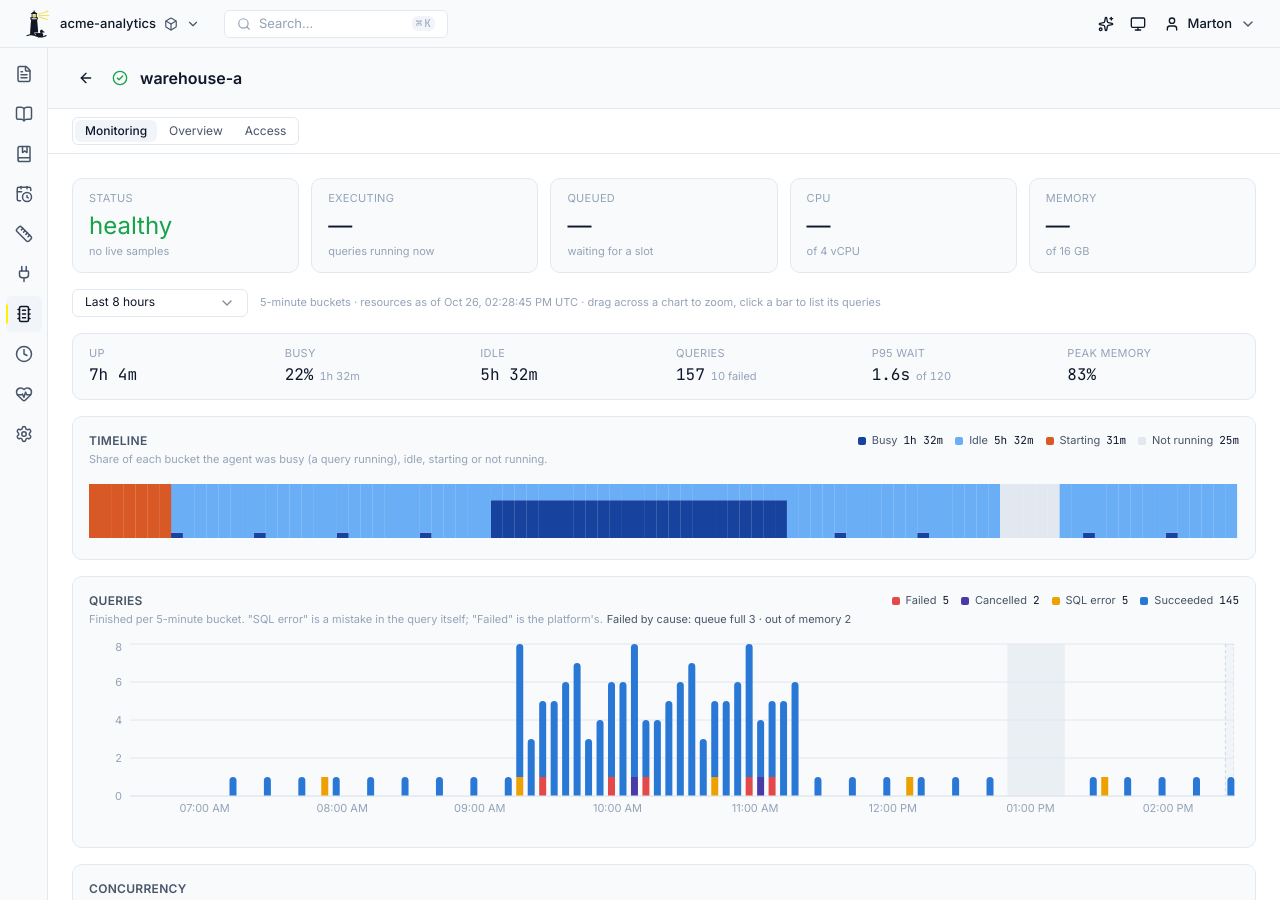
AgentAccessTab › granting › never offers the admin tier for a workspace grantee
Click the tab "Access" at (266, 131), box [235, 120, 296, 142]
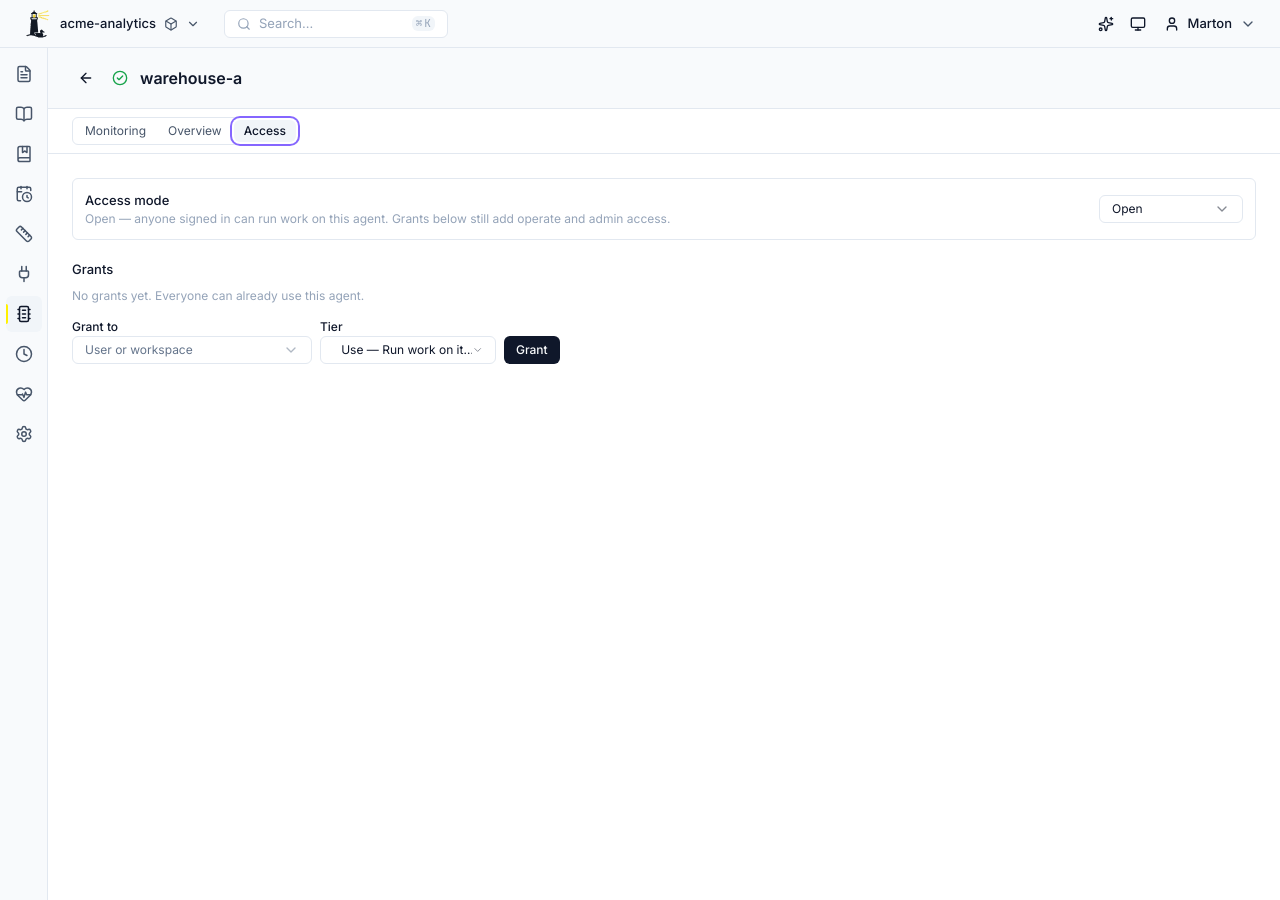
Click the dropdown named "grant to" at (192, 350), box [72, 336, 312, 364]
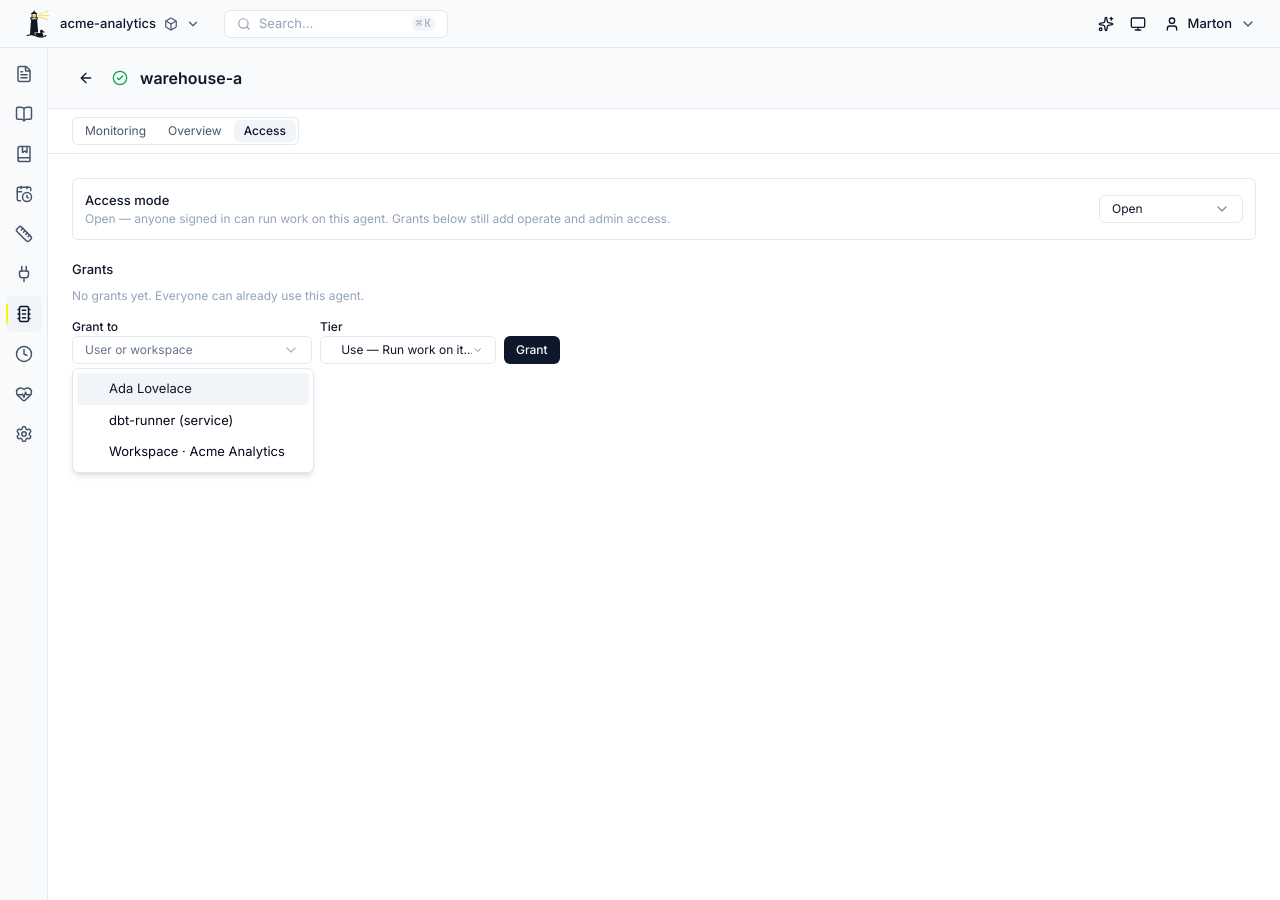
Click the option "Workspace · Acme Analytics" at (197, 451), box [109, 443, 285, 459]
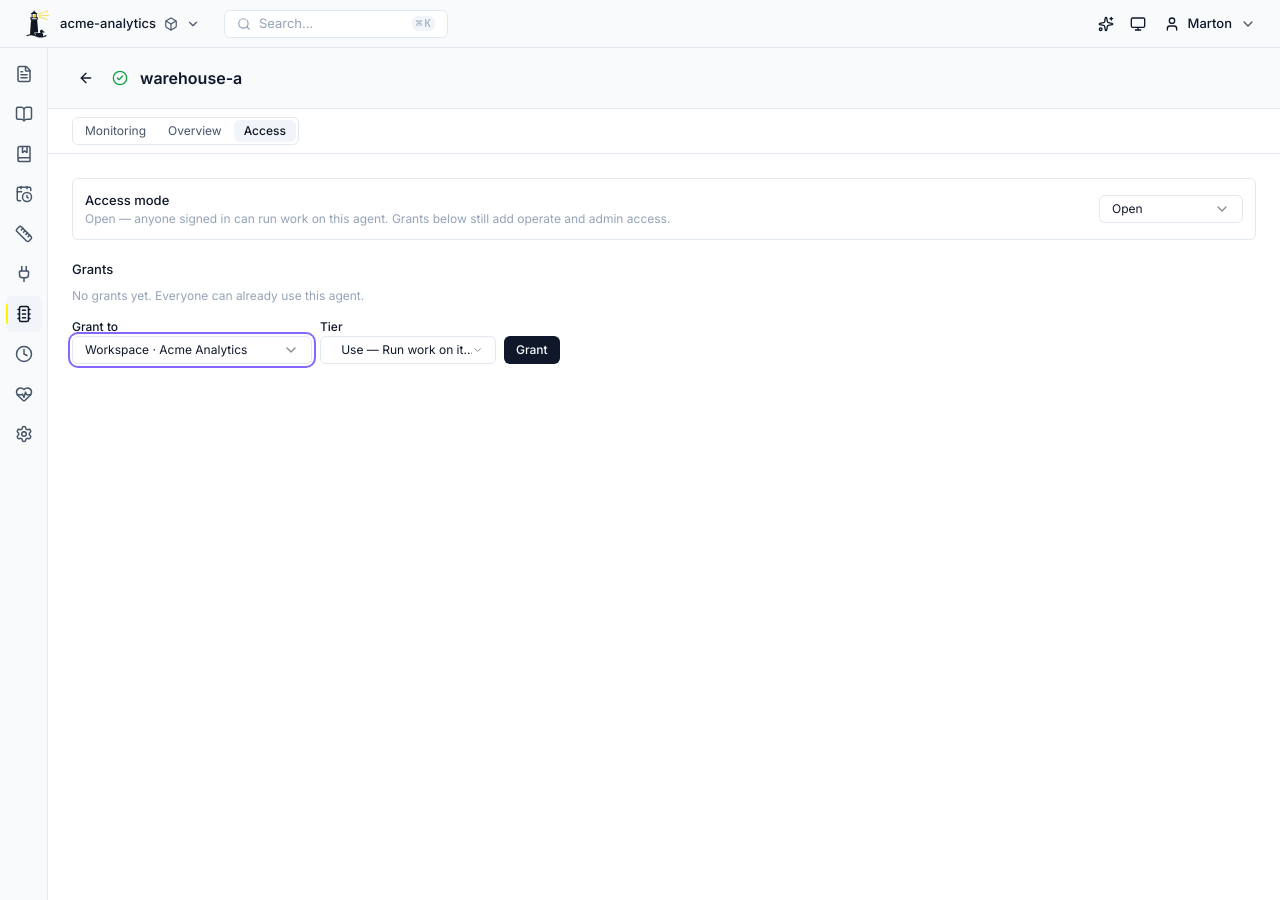
Click the dropdown named "tier" at (408, 350), box [320, 336, 496, 364]
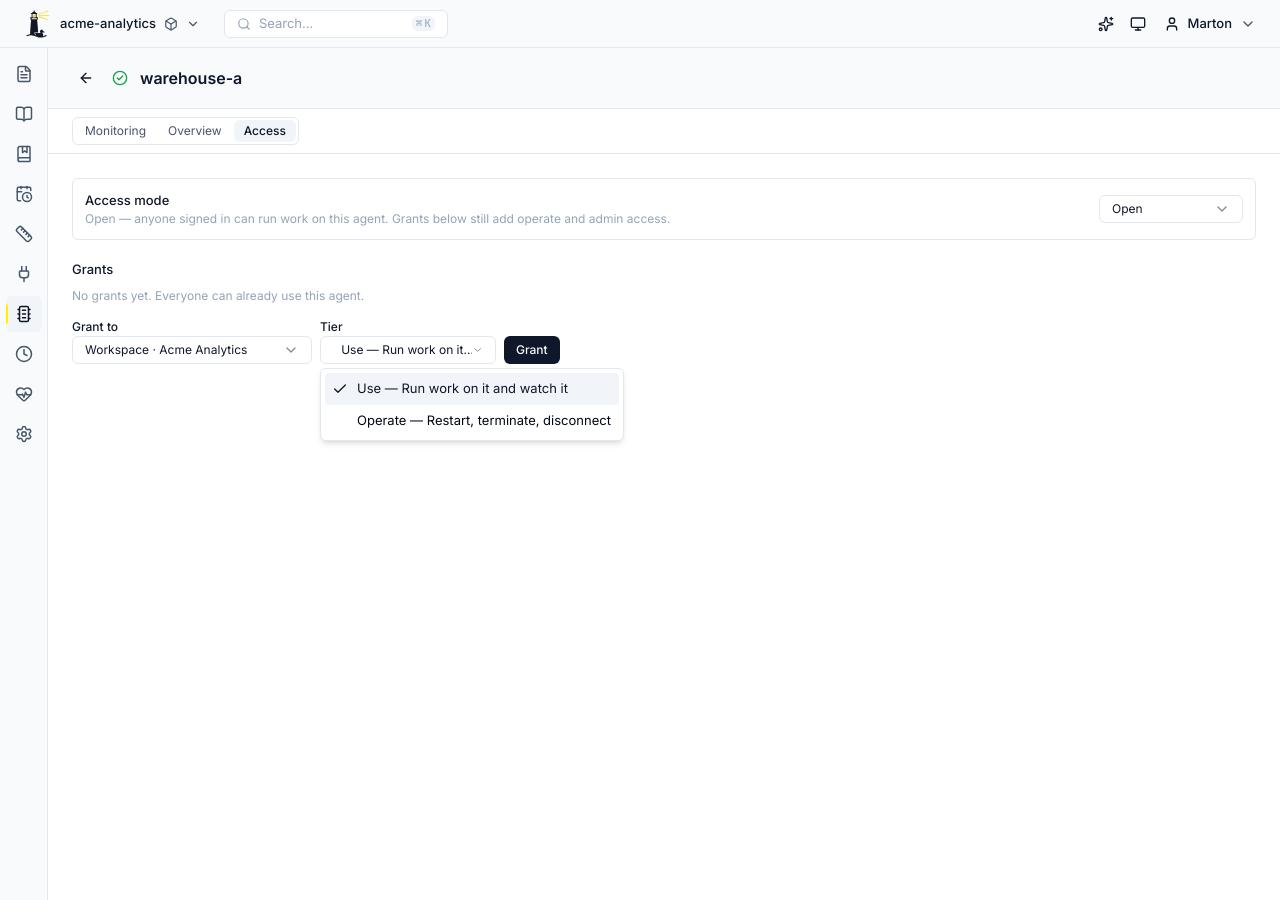
Expected: the option "Use — Run work on it and watch it" is shown, [325, 373, 619, 404]
Expected: the option "Operate — Restart, terminate, disconnect" is shown, [357, 412, 611, 428]
